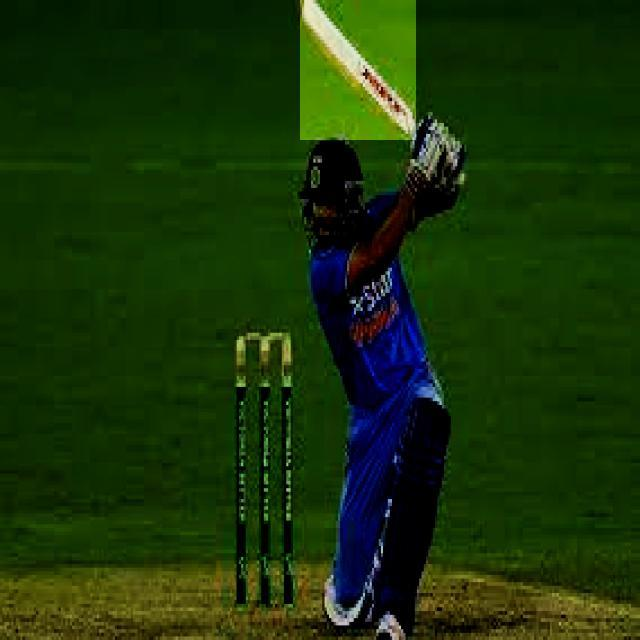bat: (303, 0, 419, 141)
toe: (295, 0, 312, 23)
